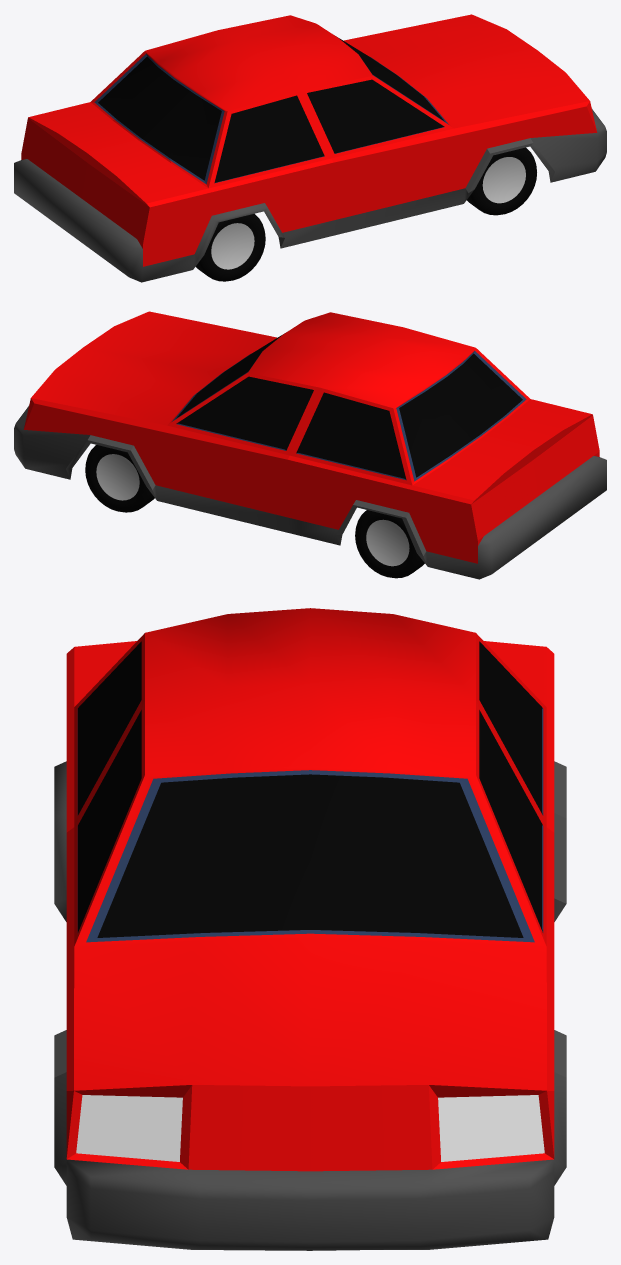
The model's file is myTotalCar_freeWheel.glb.
3 views of the same model, one above another, from view 1: azimuth 30°, elevation 25°; view 2: azimuth 150°, elevation 25°; view 3: azimuth 270°, elevation 25° (orthographic). The views are drawn at different scales.
Parts seen in each view (by area): view 1: BodyCar, Wheel4, Wheel2; view 2: BodyCar, Wheel3, Wheel1; view 3: BodyCar.
Part boxes in pixels (bbox=[...]): BodyCar: bbox=[14, 14, 606, 282]; Wheel4: bbox=[195, 213, 265, 281]; Wheel2: bbox=[467, 147, 536, 215]; BodyCar: bbox=[14, 311, 606, 579]; Wheel3: bbox=[355, 510, 424, 578]; Wheel1: bbox=[85, 445, 154, 512]; BodyCar: bbox=[54, 608, 566, 1250].
Size of the model in its own units: 4.66 by 1.51 by 2.1.
